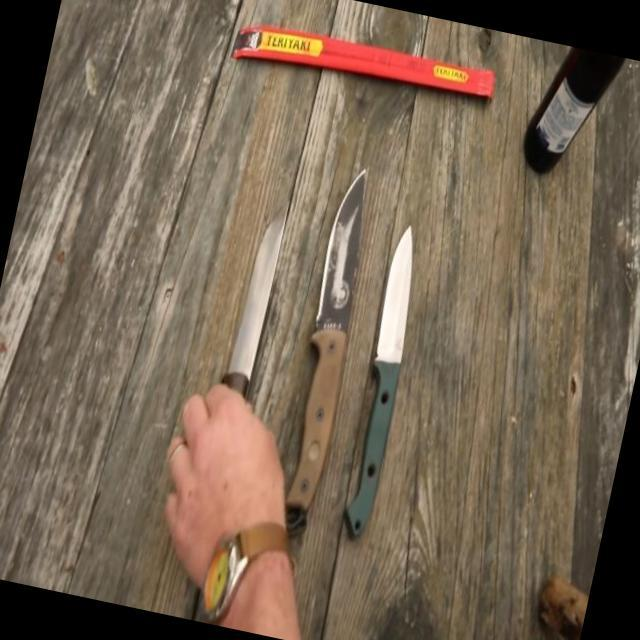Knife: (158, 165, 312, 478), (291, 148, 396, 382), (358, 205, 442, 398)
